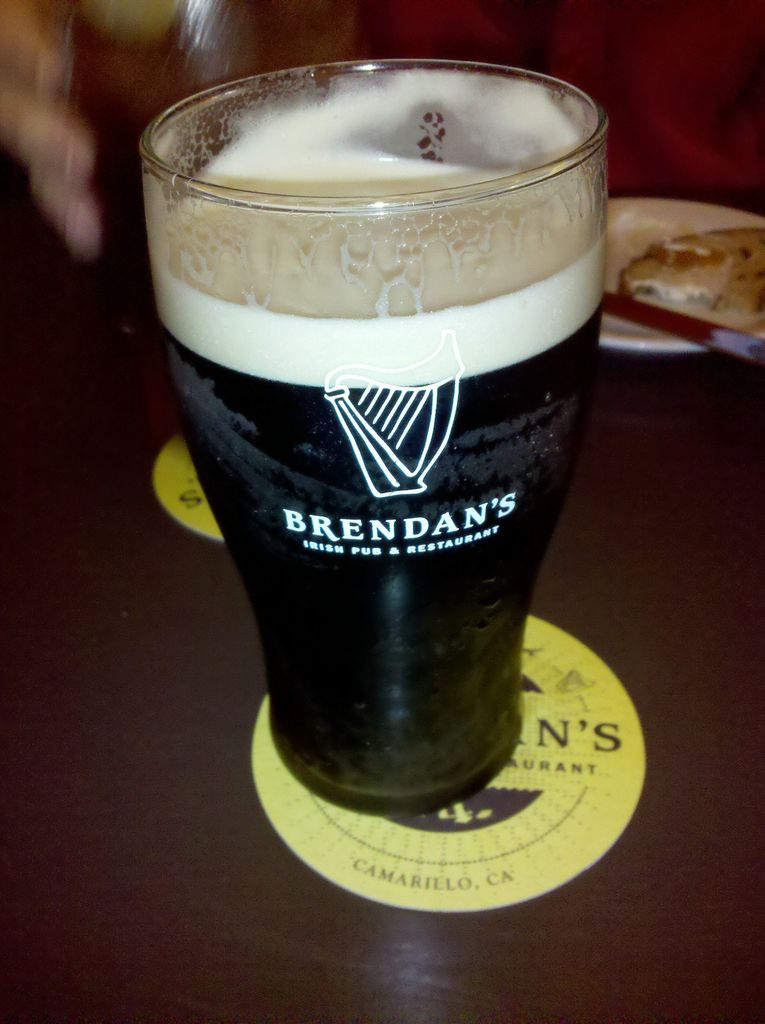Beer: (138, 58, 610, 816)
